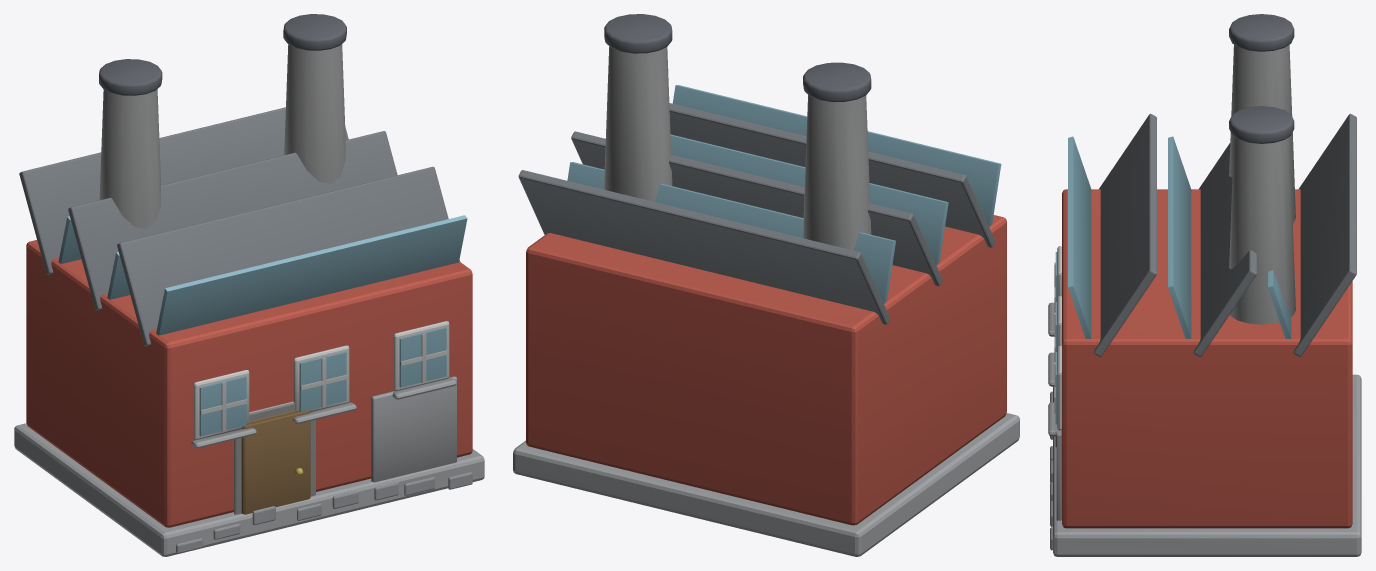
Rendered from atelier4.glb.
3 renders of one model, left to right at view 1: azimuth 30°, elevation 25°; view 2: azimuth 150°, elevation 25°; view 3: azimuth 270°, elevation 25°, orthographic. The views are drawn at different scales.
Parts seen in each view (by area): view 1: murs__wall, shed__roof, verriere__glass, shed__roof.001, shed__roof.002, socle__stone, chem__brick.001, chem__brick, portail__metal, porte__wood, vitre__glass, vitre__glass.002 (+11 smaller); view 2: murs__wall, shed__roof.002, socle__stone, chem__brick.001, chem__brick, shed__roof, shed__roof.001, verriere__glass, verriere__glass.002, verriere__glass.001, bague__dark.001, bague__dark; view 3: murs__wall, socle__stone, shed__roof.002, chem__brick.001, shed__roof, shed__roof.001, chem__brick, verriere__glass.001, verriere__glass, bague__dark.001, bague__dark, verriere__glass.002 (+2 smaller).
Boxes of the visible parts, left/top/right/bottom form: murs__wall: left=26, top=240, right=472, bottom=527; shed__roof: left=117, top=166, right=460, bottom=346; verriere__glass: left=156, top=215, right=467, bottom=335; shed__roof.001: left=68, top=131, right=397, bottom=310; shed__roof.002: left=19, top=107, right=348, bottom=274; socle__stone: left=14, top=423, right=484, bottom=556; chem__brick.001: left=284, top=44, right=345, bottom=183; chem__brick: left=99, top=89, right=160, bottom=228; portail__metal: left=371, top=376, right=456, bottom=482; porte__wood: left=241, top=410, right=310, bottom=514; vitre__glass: left=199, top=376, right=246, bottom=436; vitre__glass.002: left=399, top=327, right=446, bottom=387; murs__wall: left=526, top=215, right=1006, bottom=525; shed__roof.002: left=518, top=170, right=889, bottom=324; socle__stone: left=513, top=413, right=1019, bottom=556; chem__brick.001: left=604, top=46, right=672, bottom=201; chem__brick: left=803, top=95, right=871, bottom=250; shed__roof: left=669, top=103, right=995, bottom=247; shed__roof.001: left=571, top=131, right=942, bottom=286; verriere__glass: left=672, top=85, right=1001, bottom=226; verriere__glass.002: left=567, top=162, right=895, bottom=303; verriere__glass.001: left=670, top=134, right=948, bottom=265; bague__dark.001: left=604, top=14, right=672, bottom=53; bague__dark: left=803, top=62, right=871, bottom=101; murs__wall: left=1062, top=189, right=1352, bottom=528; socle__stone: left=1053, top=374, right=1361, bottom=556; shed__roof.002: left=1293, top=113, right=1356, bottom=356; chem__brick.001: left=1229, top=137, right=1295, bottom=324; shed__roof: left=1094, top=113, right=1156, bottom=356; shed__roof.001: left=1193, top=143, right=1256, bottom=356; chem__brick: left=1229, top=44, right=1295, bottom=223; verriere__glass.001: left=1168, top=136, right=1191, bottom=338; verriere__glass: left=1068, top=136, right=1091, bottom=338; bague__dark.001: left=1229, top=106, right=1294, bottom=143; bague__dark: left=1229, top=14, right=1294, bottom=51; verriere__glass.002: left=1268, top=270, right=1291, bottom=338.
Size of the model in its own units: 4.2 by 4.92 by 3.45.
